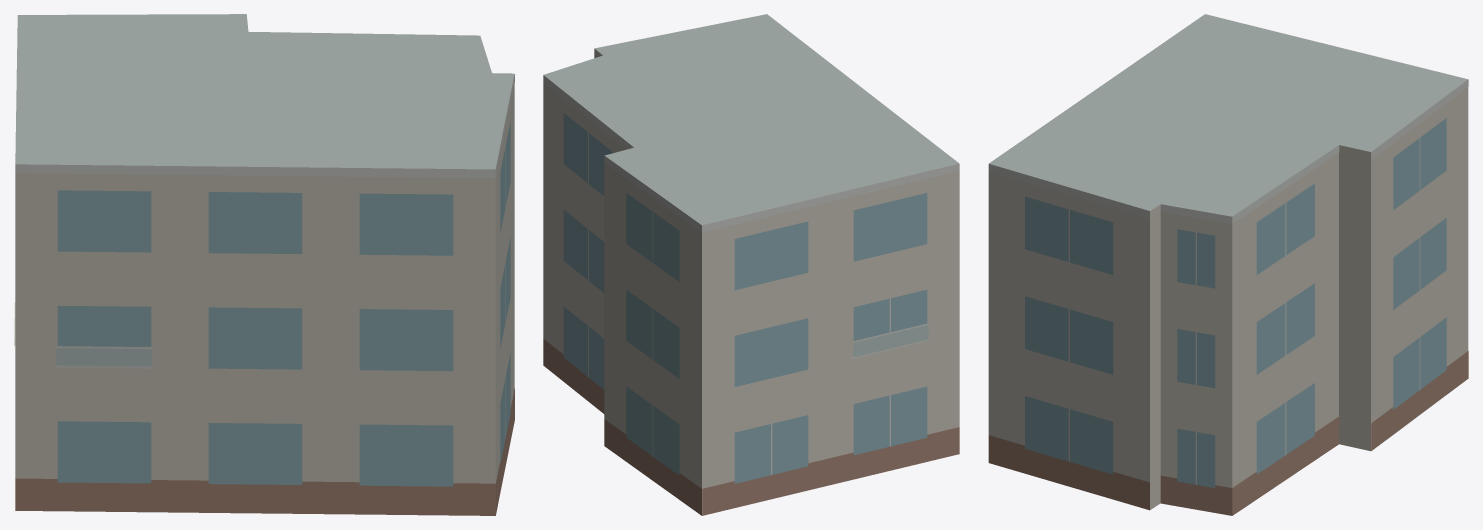
File: survey-upis-32781068.glb
The picture shows the model from 3 angles, left to right: view 1: azimuth 30°, elevation 25°; view 2: azimuth 150°, elevation 25°; view 3: azimuth 270°, elevation 25°; orthographic projection. The views are drawn at different scales.
Parts seen in each view (by area): view 1: survey-upis-32781068.tmp; view 2: survey-upis-32781068.tmp; view 3: survey-upis-32781068.tmp.
Part boxes in pixels (box(x1,y1,x2,y2)): survey-upis-32781068.tmp: box(14, 14, 514, 515); survey-upis-32781068.tmp: box(543, 14, 959, 515); survey-upis-32781068.tmp: box(988, 14, 1468, 515).
Bounding box in the file's own units: 14.24 × 9.8 × 14.25.
